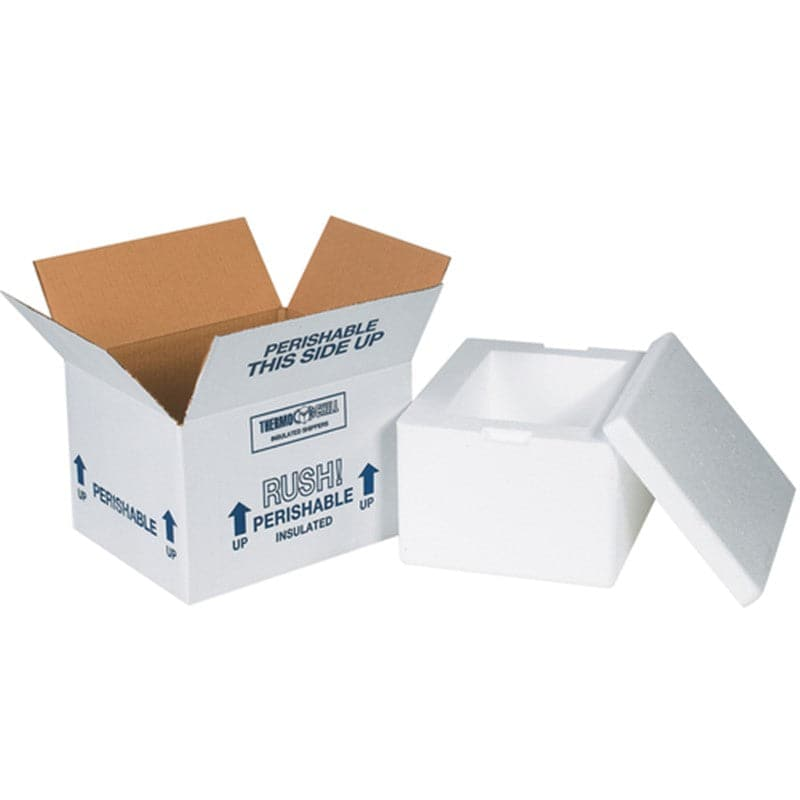Boxes: (398, 334, 793, 606)
